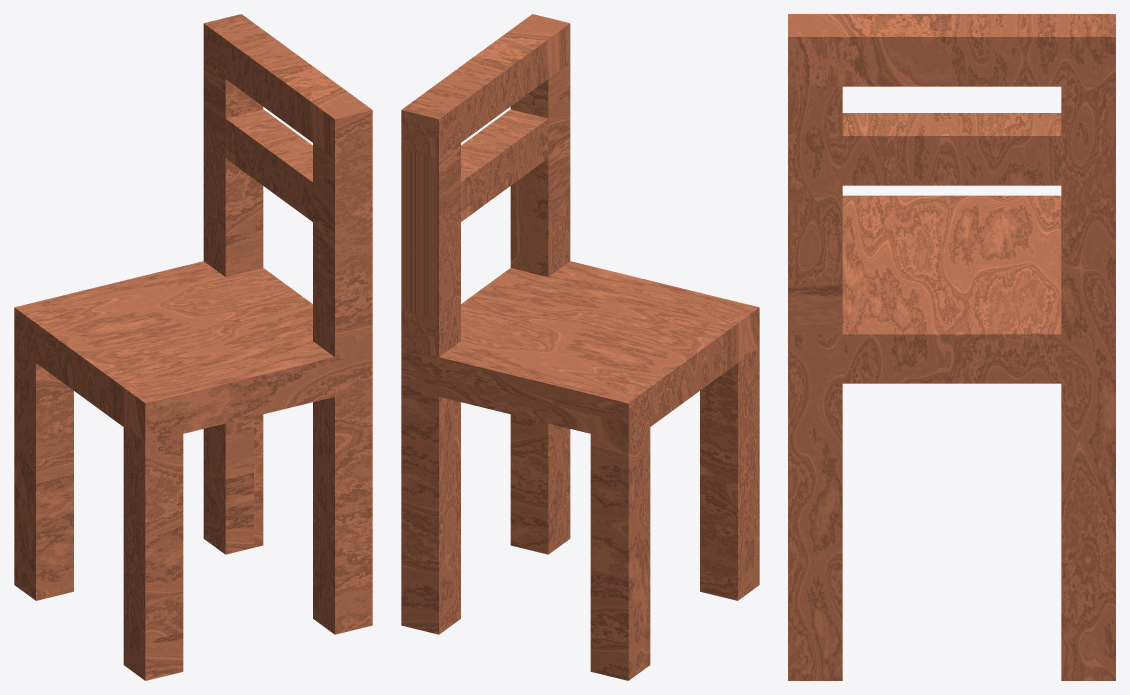
Rendered from chair.glb.
3 views of the same model, side by side, from view 1: azimuth 30°, elevation 25°; view 2: azimuth 150°, elevation 25°; view 3: azimuth 270°, elevation 25° (orthographic). The views are drawn at different scales.
Parts seen in each view (by area): view 1: Chair; view 2: Chair; view 3: Chair.
Boxes of the visible parts, <box> form: Chair: <box>14,14,372,680</box>; Chair: <box>401,14,759,680</box>; Chair: <box>788,14,1115,680</box>.
Size of the model in its own units: 6 by 13 by 6.
1 material, 1 textured.
